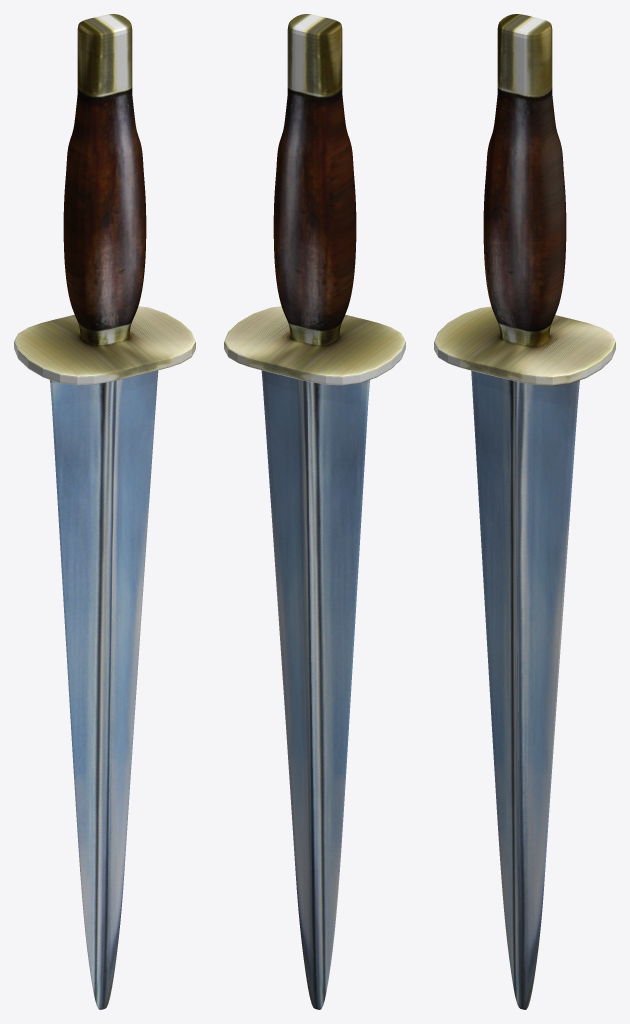
Rendered from PlayerDaggerV1.fbx.
3 renders of one model, left to right at view 1: azimuth 30°, elevation 25°; view 2: azimuth 150°, elevation 25°; view 3: azimuth 330°, elevation 25°, orthographic.
Parts seen in each view (by area): view 1: Dagger_V1; view 2: Dagger_V1; view 3: Dagger_V1.
Boxes of the visible parts, bbox=[...] form: Dagger_V1: bbox=[14, 14, 195, 1009]; Dagger_V1: bbox=[224, 14, 405, 1009]; Dagger_V1: bbox=[434, 14, 615, 1009].
Bounding box in the file's own units: 82.25 × 505 × 63.98.
Materials: 1 (1 with a texture image).
